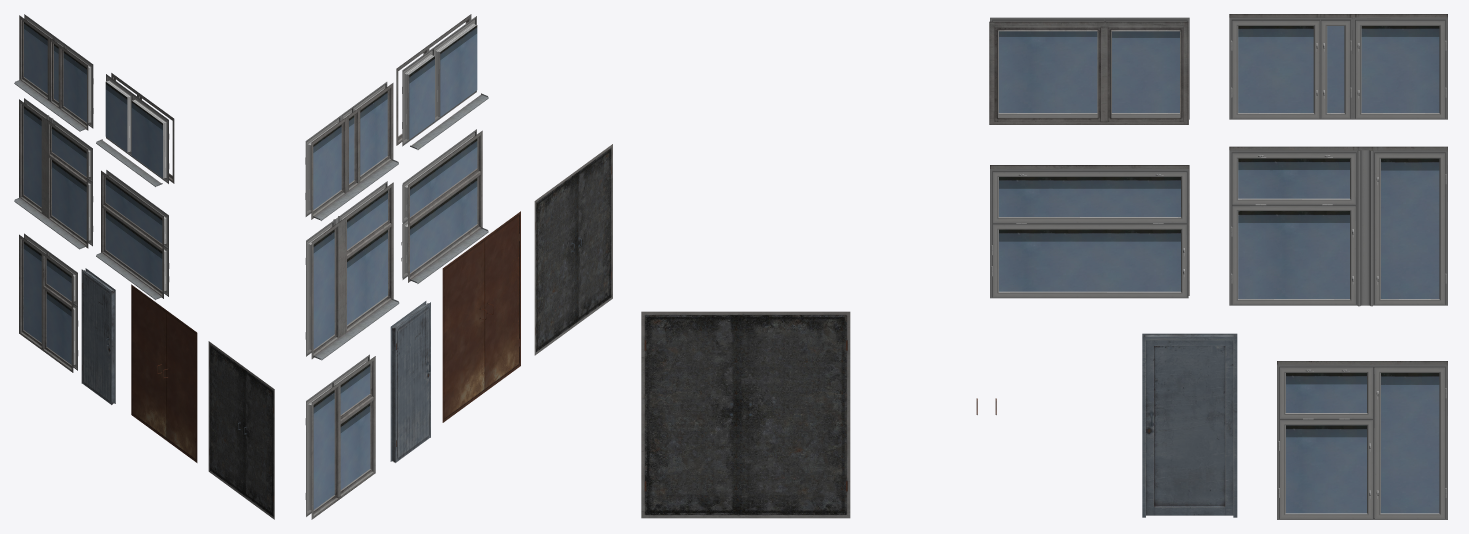
File: Window_Nex.fbx
3 renders of one model, left to right at view 1: azimuth 30°, elevation 25°; view 2: azimuth 150°, elevation 25°; view 3: azimuth 270°, elevation 25°, orthographic. The views are drawn at different scales.
Parts seen in each view (by area): view 1: Object008, Object007, Object004, Object003, Object005, Object002, Object006, Object001, Object010, Object009; view 2: Object007, Object008, Object004, Object003, Object005, Object002, Object006, Object001, Object010, Object009, Object011; view 3: Object008, Object004, Object005, Object001, Object002, Object006, Object003, Object011.
Part boxes in pixels (x1=…): Object008: x1=208, y1=341, x2=274, y2=519; Object007: x1=131, y1=284, x2=197, y2=462; Object004: x1=14, y1=98, x2=93, y2=249; Object003: x1=96, y1=170, x2=169, y2=299; Object005: x1=19, y1=233, x2=78, y2=372; Object002: x1=96, y1=73, x2=174, y2=186; Object006: x1=81, y1=268, x2=115, y2=404; Object001: x1=14, y1=14, x2=93, y2=131; Object010: x1=24, y1=22, x2=47, y2=93; Object009: x1=63, y1=51, x2=86, y2=122; Object007: x1=442, y1=211, x2=520, y2=422; Object008: x1=534, y1=144, x2=612, y2=355; Object004: x1=305, y1=181, x2=399, y2=360; Object003: x1=401, y1=129, x2=488, y2=283; Object005: x1=305, y1=354, x2=375, y2=519; Object002: x1=396, y1=14, x2=488, y2=149; Object006: x1=390, y1=301, x2=430, y2=462; Object001: x1=305, y1=82, x2=398, y2=220; Object010: x1=313, y1=124, x2=341, y2=209; Object009: x1=360, y1=91, x2=387, y2=175; Object011: x1=402, y1=132, x2=475, y2=222; Object008: x1=641, y1=311, x2=850, y2=518; Object004: x1=1229, y1=146, x2=1447, y2=306; Object005: x1=1277, y1=361, x2=1447, y2=519; Object001: x1=1229, y1=14, x2=1447, y2=119; Object002: x1=989, y1=17, x2=1189, y2=124; Object006: x1=1142, y1=333, x2=1237, y2=517; Object003: x1=990, y1=165, x2=1189, y2=298; Object011: x1=993, y1=171, x2=1186, y2=222.
Size of the model in its own units: 35874 by 584931 by 855906.
4 materials, 4 textured.
